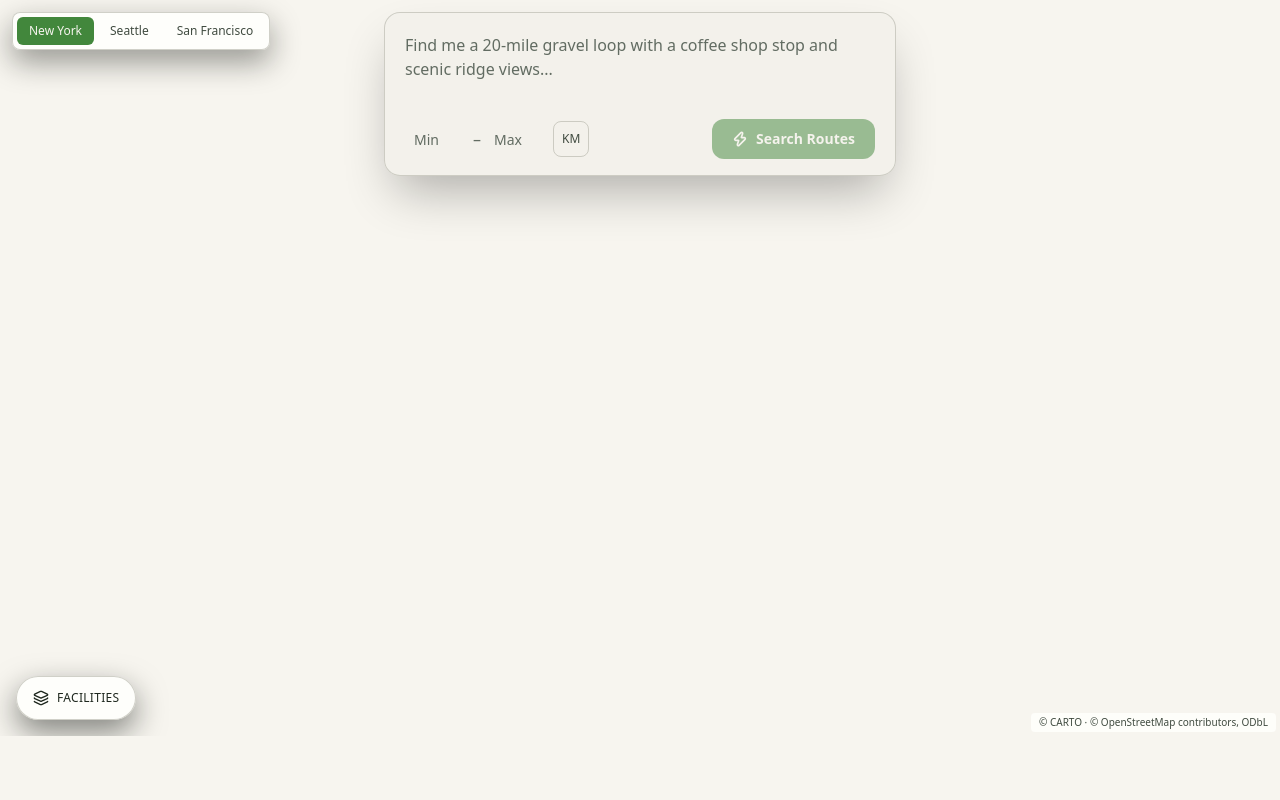
Test case: MapExplorer — map-tab search › filters both route layers to the resolved result ids (search supersedes the distance filter)
Step 1. Replace the text in the text box with "two routes" → (640, 65), box [389,17,891,113]
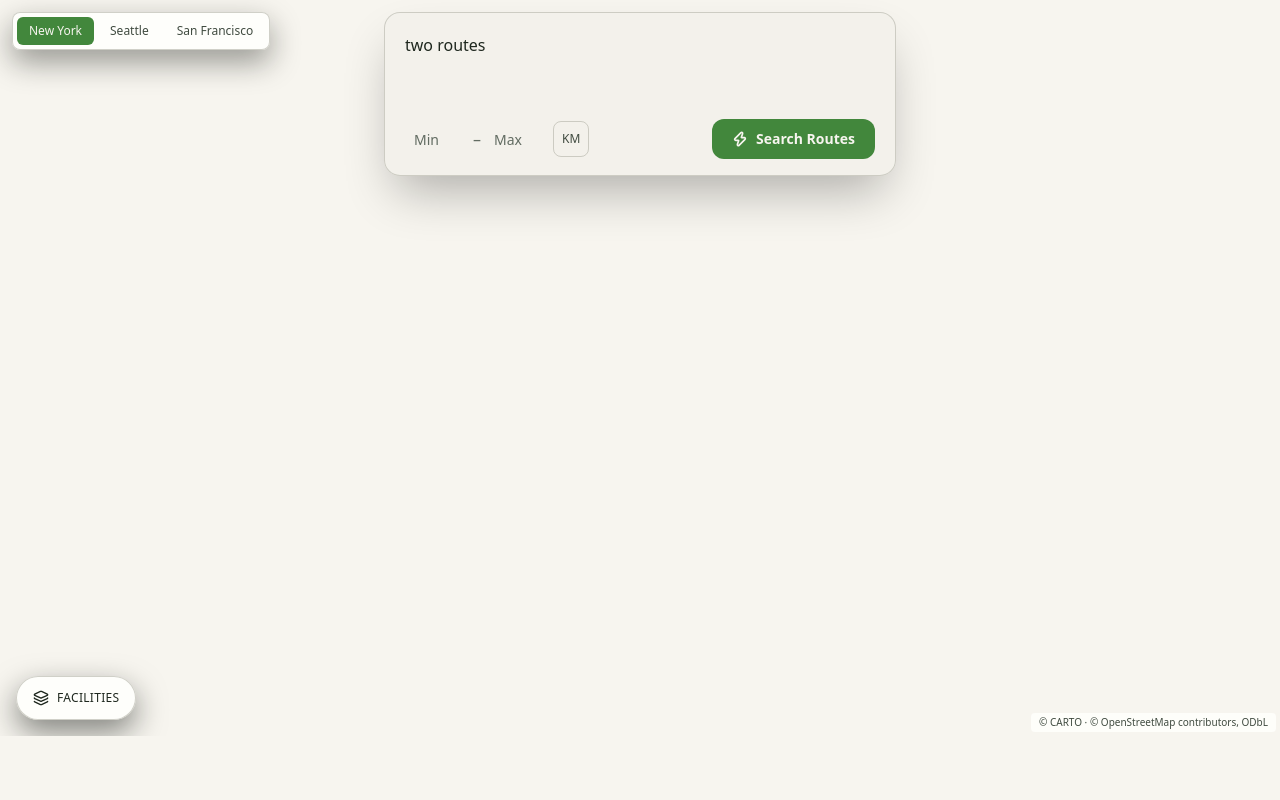
Step 2. Click the button "Search Routes" → (794, 139), box [712,119,875,159]
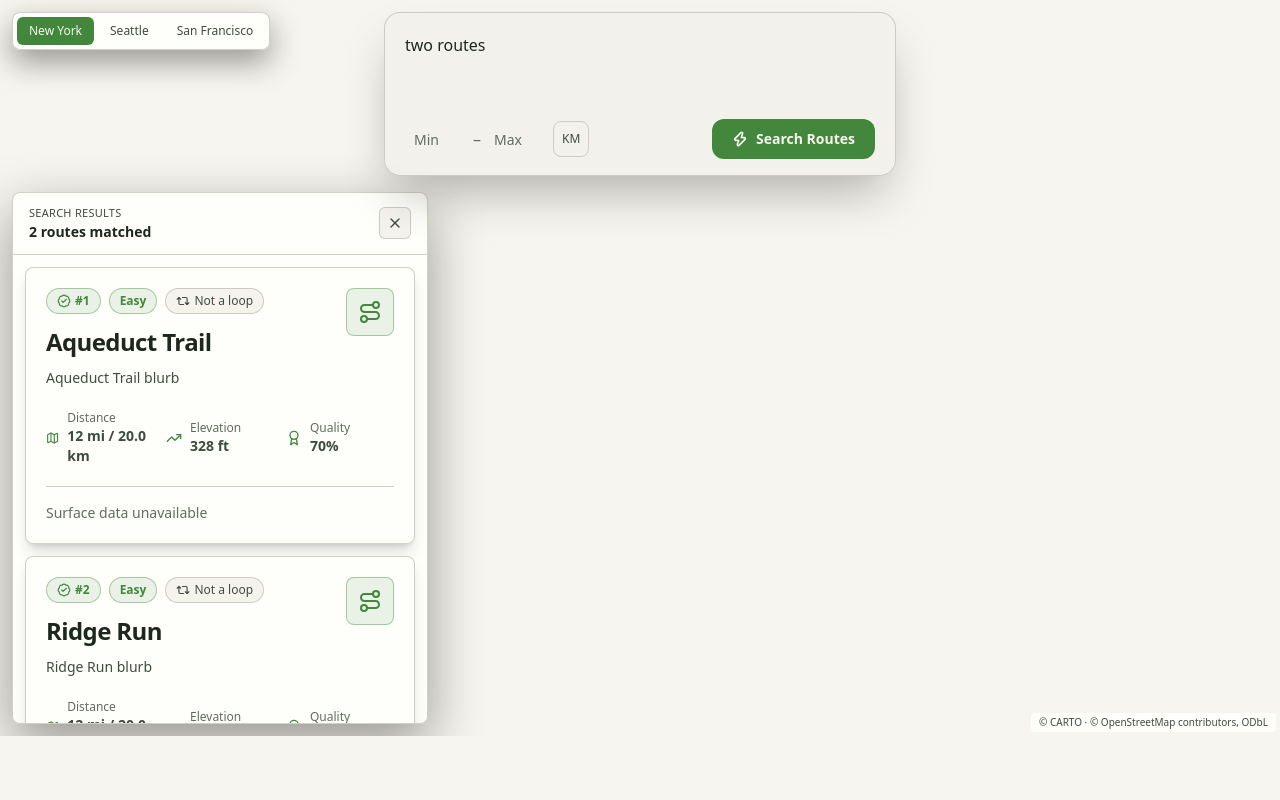
Result: the heading "Aqueduct Trail" is shown at [46,324,212,358]
